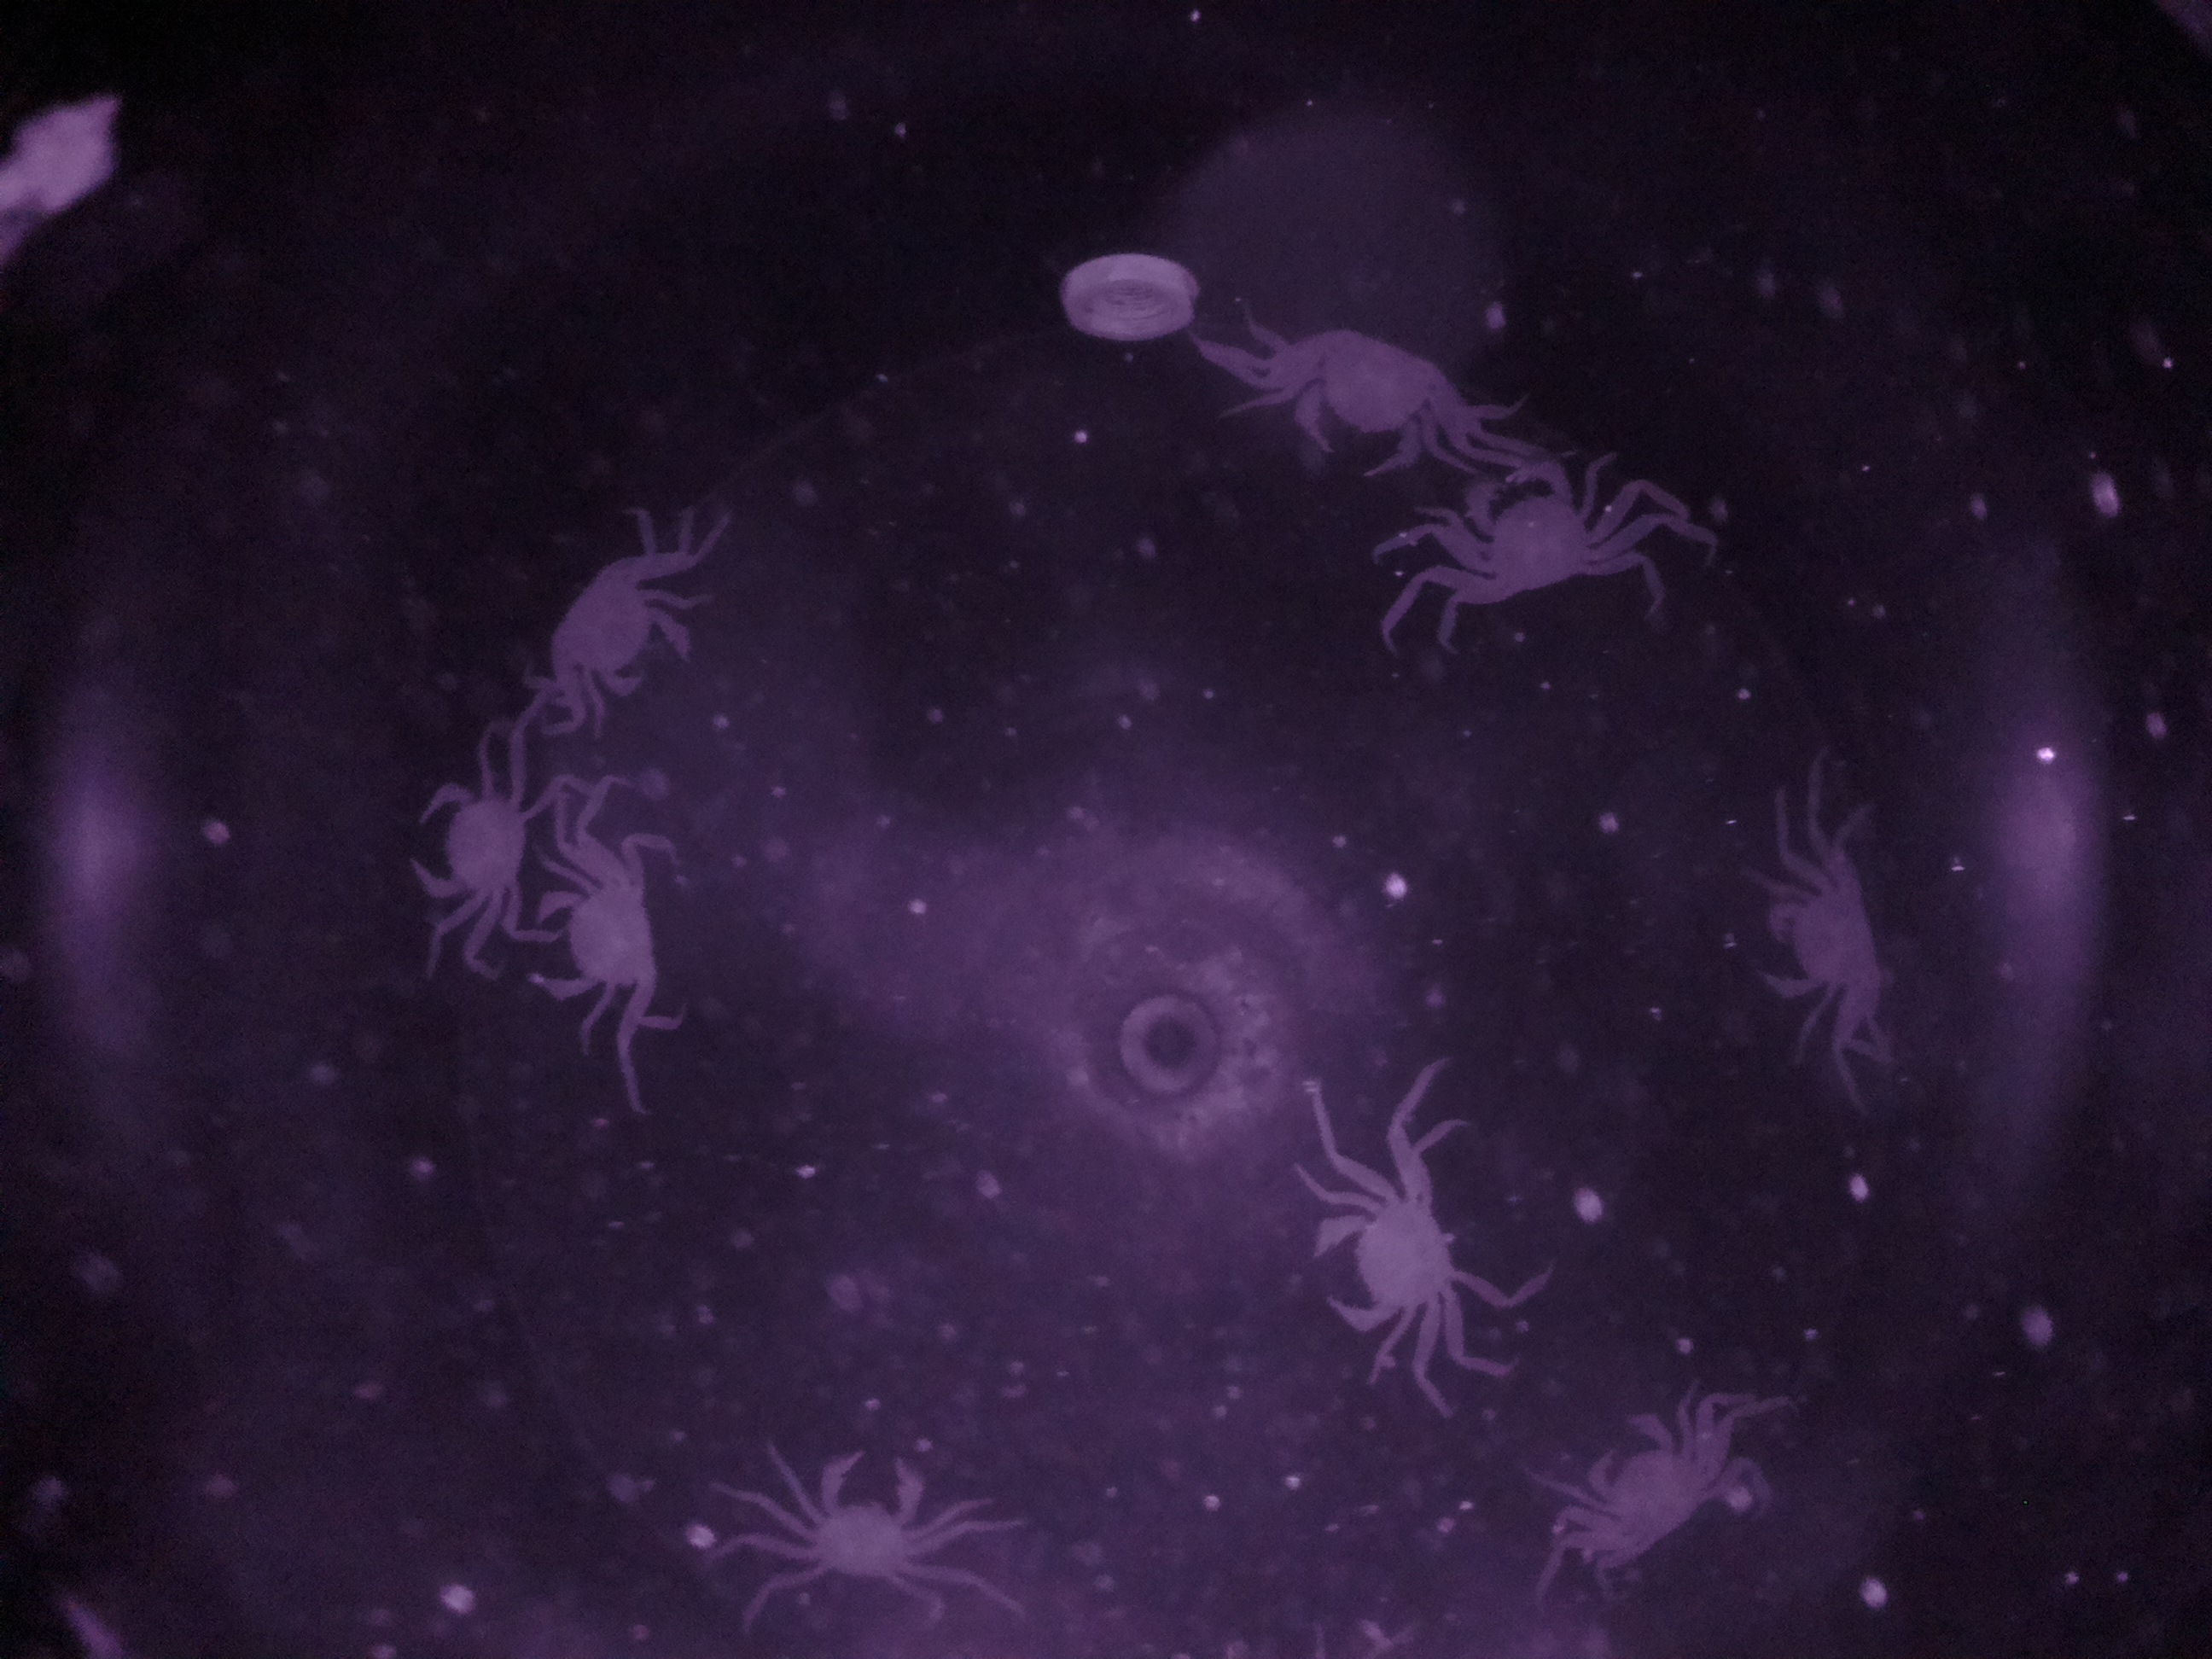Crab: (1249, 295, 1480, 495), (1299, 1155, 1468, 1364), (770, 1431, 961, 1605), (1433, 450, 1618, 624), (528, 530, 702, 711), (1743, 850, 1912, 1037), (1564, 1394, 1719, 1574), (526, 847, 678, 1028), (394, 751, 542, 929)
